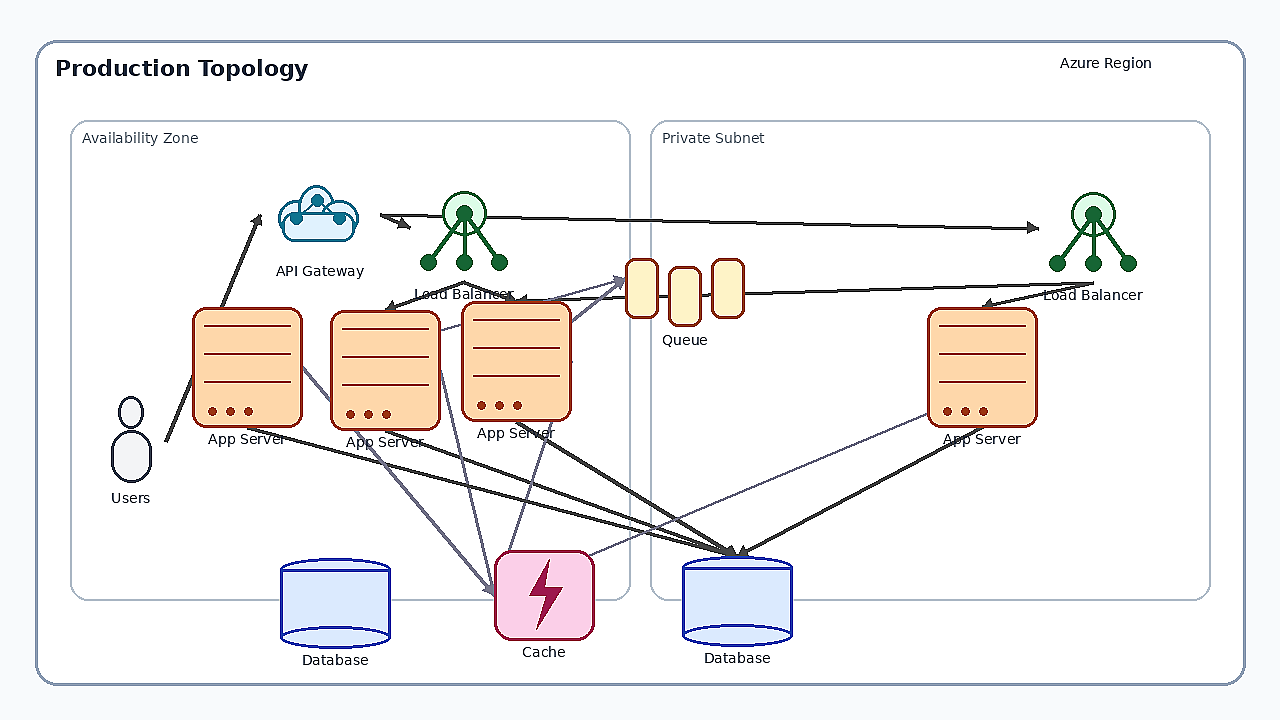API Gateway: (260, 169, 380, 259)
Application Server: (330, 310, 440, 430), (461, 301, 571, 421), (192, 307, 302, 427), (927, 307, 1037, 427)
Cache: (494, 550, 594, 640)
Database: (280, 558, 390, 648), (682, 556, 792, 646)
Load Balancer: (409, 172, 519, 282), (1038, 173, 1148, 283)
Message Queue: (625, 258, 745, 328)
User: (96, 396, 166, 486)
